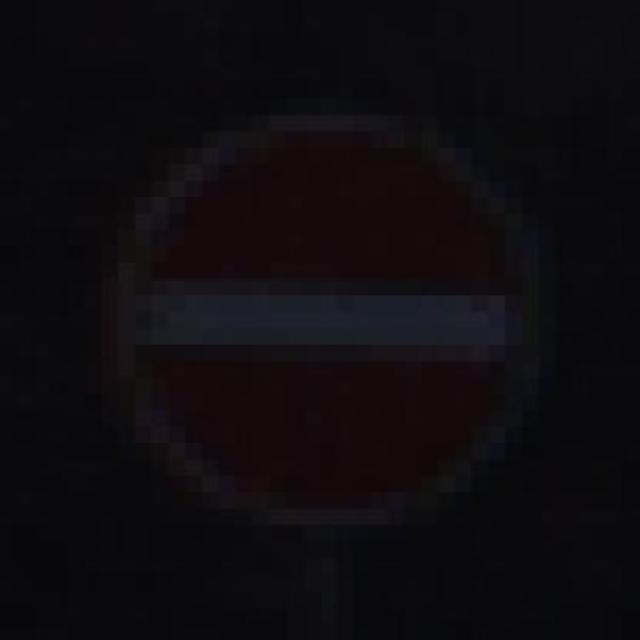No Entry: (67, 66, 556, 574)
